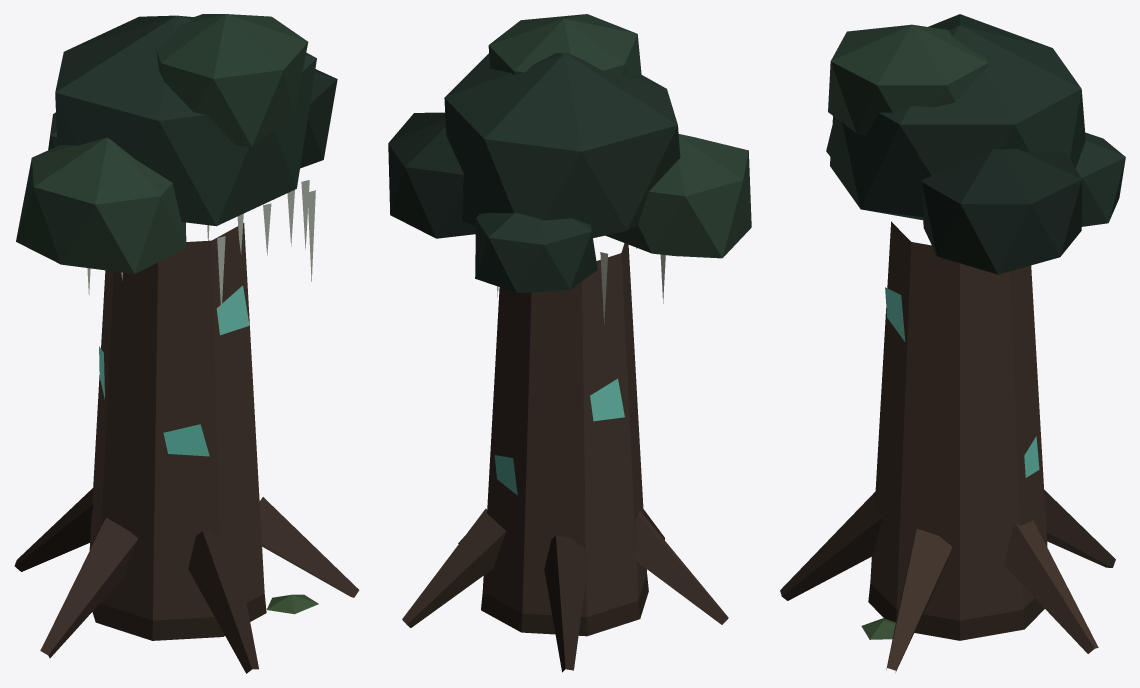
The model's file is tree_ancient.glb.
3 renders of one model, left to right at view 1: azimuth 30°, elevation 25°; view 2: azimuth 150°, elevation 25°; view 3: azimuth 270°, elevation 25°, orthographic. The views are drawn at different scales.
Visible parts, largest first — view 1: tree_ancient, Moss_glow; view 2: tree_ancient, Moss_glow; view 3: tree_ancient, Moss_glow.
Boxes of the visible parts, x1=… form: tree_ancient: x1=14, y1=14, x2=359, y2=673; Moss_glow: x1=99, y1=285, x2=249, y2=456; tree_ancient: x1=388, y1=14, x2=751, y2=672; Moss_glow: x1=494, y1=378, x2=624, y2=495; tree_ancient: x1=780, y1=14, x2=1125, y2=672; Moss_glow: x1=885, y1=287, x2=1039, y2=477.
Size of the model in its own units: 3.98 by 6.86 by 3.62.
